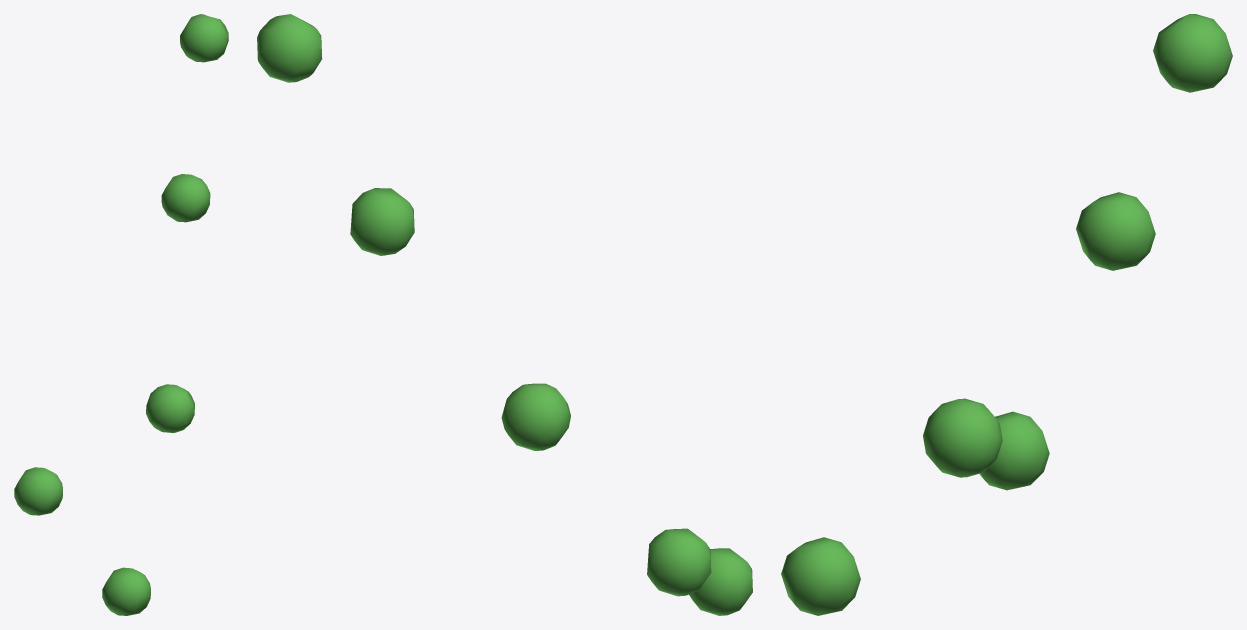
File: linfatico-supratrochlear-nodes-l.glb
3 views of the same model, side by side, from view 1: azimuth 30°, elevation 25°; view 2: azimuth 150°, elevation 25°; view 3: azimuth 270°, elevation 25° (orthographic). The views are drawn at different scales.
Parts seen in each view (by area): view 1: Supratrochlear nodes.l; view 2: Supratrochlear nodes.l; view 3: Supratrochlear nodes.l.
Boxes of the visible parts, left/top/right/bottom form: Supratrochlear nodes.l: left=14, top=14, right=228, bottom=615; Supratrochlear nodes.l: left=257, top=14, right=752, bottom=615; Supratrochlear nodes.l: left=781, top=14, right=1232, bottom=615.
Size of the model in its own units: 0.0158 by 0.0266 by 0.0146.
